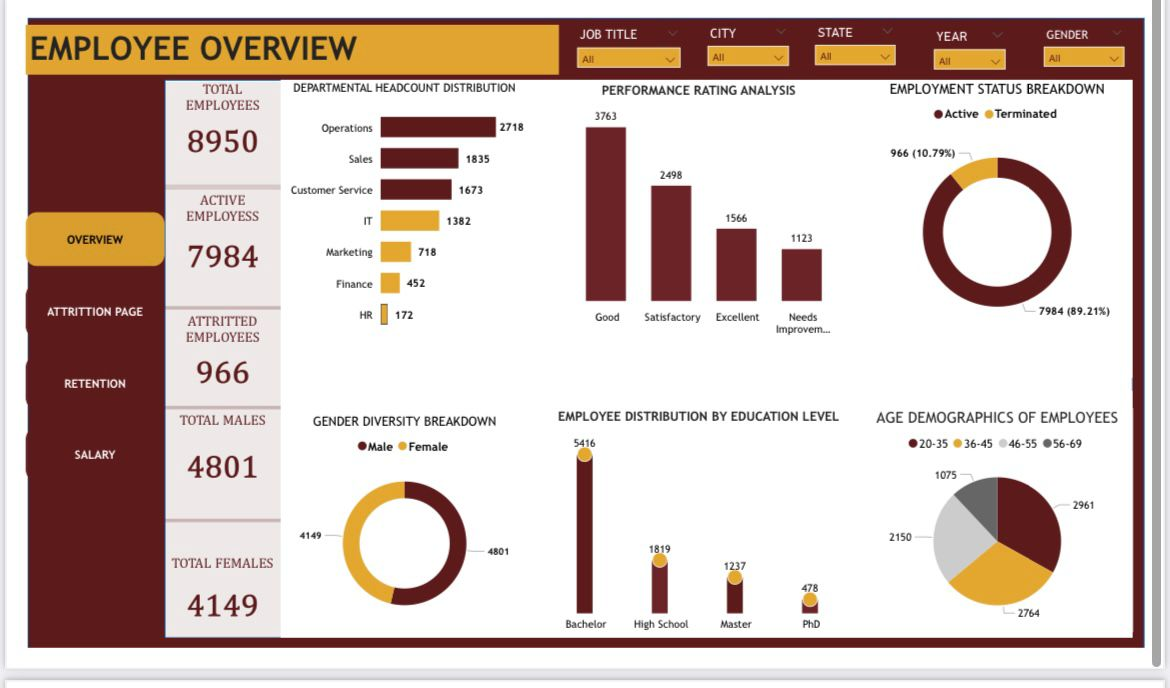

Layout of this report page (visuals, bound fields, positions):
{"tool":"powerbi","page":{"name":"OVERVIEW","canvas":[1280,720],"ordinal":0},"visuals":[{"type":"shape","box":[1.7,0,1278.8,720.6],"z":0},{"type":"shape","box":[159,71.2,1108.2,637.7],"z":1000},{"type":"shape","box":[291.5,425.7,975.7,283.3],"z":2000},{"type":"shape","box":[291.5,71.2,975.7,341.2],"z":3000},{"type":"shape","box":[159,72.9,132.5,636.1],"z":4000},{"type":"slicer","fields":{"Values":["HumanResources (2).Gender"]},"box":[1154.6,5,112.6,61.3],"z":5000},{"type":"card","title":"TOTAL EMPLOYEES","fields":{"Values":["measures (2).Total_Employees"]},"box":[159,72.9,132.5,101],"z":6000},{"type":"card","title":"ACTIVE EMPLOYESS","fields":{"Values":["measures (2).Active_Employees"]},"box":[159,200.4,132.5,109.3],"z":7000},{"type":"shape","box":[159,324.7,132.5,13.3],"z":8000},{"type":"shape","box":[159,187.2,132.5,13.3],"z":9000},{"type":"card","title":"ATTRITTED EMPLOYEES","fields":{"Values":["measures (2).Attritted_Employees"]},"box":[159,337.9,132.5,99.4],"z":10000},{"type":"shape","box":[159,439,132.5,13.3],"z":11000},{"type":"shape","box":[159,568.2,132.5,13.3],"z":12000},{"type":"card","title":"TOTAL MALES","fields":{"Values":["measures (2).Total Males"]},"box":[159,452.2,132.5,102.7],"z":13000},{"type":"card","title":"TOTAL FEMALES","fields":{"Values":["measures (2).Total Females"]},"box":[159,614.6,132.5,94.4],"z":14000},{"type":"donutChart","title":"GENDER DIVERSITY BREAKDOWN","fields":{"Category":["HumanResources (2).Gender"],"Y":["measures (2).Total_Employees"]},"box":[291.5,452.2,283.3,250.1],"z":15000},{"type":"barChart","title":"DEPARTMENTAL HEADCOUNT DISTRIBUTION","fields":{"Category":["HumanResources (2).Department"],"Y":["measures (2).Total_Employees"]},"box":[291.5,71.2,283.3,299.8],"z":16000},{"type":"lineStackedColumnComboChart","title":"EMPLOYEE DISTRIBUTION BY EDUCATION LEVEL","fields":{"Category":["HumanResources (2).Education Level"],"Y":["measures (2).Total_Employees"]},"box":[591.4,445.6,357.8,263.4],"z":17000},{"type":"pieChart","title":"AGE DEMOGRAPHICS OF EMPLOYEES","fields":{"Category":["HumanResources (2).Age Group"],"Y":["measures (2).Total_Employees"]},"box":[955.8,445.6,311.4,256.8],"z":18000},{"type":"donutChart","title":"EMPLOYMENT STATUS BREAKDOWN","fields":{"Category":["HumanResources (2).employment status"],"Y":["measures (2).Total_Employees"]},"box":[955.8,71.2,311.4,299.8],"z":19000},{"type":"slicer","fields":{"Values":["HumanResources (2).hireYear"]},"box":[1028.7,8.3,102.7,56.3],"z":20000},{"type":"clusteredColumnChart","title":"PERFORMANCE RATING ANALYSIS","fields":{"Y":["measures (2).Total_Employees"],"Category":["HumanResources (2).Performance Rating"]},"box":[591.4,72.9,357.8,298.2],"z":21000},{"type":"pageNavigator","box":[0,222,159,308.1],"z":22000},{"type":"slicer","fields":{"Values":["HumanResources (2).State"]},"box":[892.8,3.3,112.6,61.3],"z":23000},{"type":"slicer","fields":{"Values":["HumanResources (2).City"]},"box":[770.3,3.3,112.6,61.3],"z":24000},{"type":"slicer","fields":{"Values":["HumanResources (2).Job Title"]},"box":[621.2,5,137.5,61.3],"z":25000},{"type":"textbox","box":[0,8.3,609.6,56.3],"z":26000}]}

Visuals, with their boxes on the page's 1280x720 design canvas (x1, y1, x2, y2). These are canvas units, not pixel positions in the 1170x688 screenshot, which may show the page scaled, cropped or inside an application window:
shape: bbox=(2, 0, 1280, 721)
shape: bbox=(159, 71, 1267, 709)
shape: bbox=(292, 426, 1267, 709)
shape: bbox=(292, 71, 1267, 412)
shape: bbox=(159, 73, 292, 709)
slicer - HumanResources (2).Gender: bbox=(1155, 5, 1267, 66)
"TOTAL EMPLOYEES" card: bbox=(159, 73, 292, 174)
"ACTIVE EMPLOYESS" card: bbox=(159, 200, 292, 310)
shape: bbox=(159, 325, 292, 338)
shape: bbox=(159, 187, 292, 200)
"ATTRITTED EMPLOYEES" card: bbox=(159, 338, 292, 437)
shape: bbox=(159, 439, 292, 452)
shape: bbox=(159, 568, 292, 582)
"TOTAL MALES" card: bbox=(159, 452, 292, 555)
"TOTAL FEMALES" card: bbox=(159, 615, 292, 709)
"GENDER DIVERSITY BREAKDOWN" donutChart: bbox=(292, 452, 575, 702)
"DEPARTMENTAL HEADCOUNT DISTRIBUTION" barChart: bbox=(292, 71, 575, 371)
"EMPLOYEE DISTRIBUTION BY EDUCATION LEVEL" lineStackedColumnComboChart: bbox=(591, 446, 949, 709)
"AGE DEMOGRAPHICS OF EMPLOYEES" pieChart: bbox=(956, 446, 1267, 702)
"EMPLOYMENT STATUS BREAKDOWN" donutChart: bbox=(956, 71, 1267, 371)
slicer - HumanResources (2).hireYear: bbox=(1029, 8, 1131, 65)
"PERFORMANCE RATING ANALYSIS" clusteredColumnChart: bbox=(591, 73, 949, 371)
pageNavigator: bbox=(0, 222, 159, 530)
slicer - HumanResources (2).State: bbox=(893, 3, 1005, 65)
slicer - HumanResources (2).City: bbox=(770, 3, 883, 65)
slicer - HumanResources (2).Job Title: bbox=(621, 5, 759, 66)
textbox: bbox=(0, 8, 610, 65)
